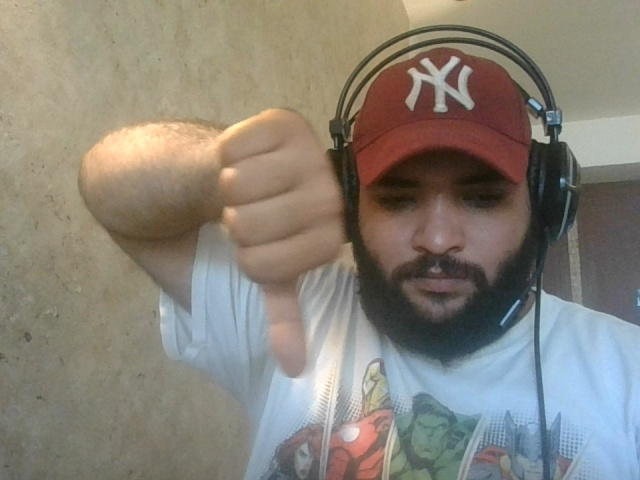no: (208, 104, 351, 380)
